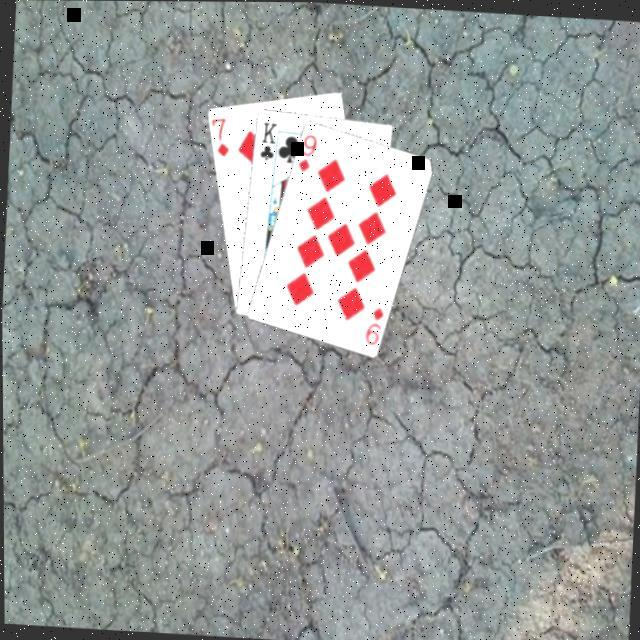7D: (207, 114, 231, 160)
9D: (293, 130, 319, 175), (360, 303, 385, 348)
KC: (254, 119, 281, 168)
